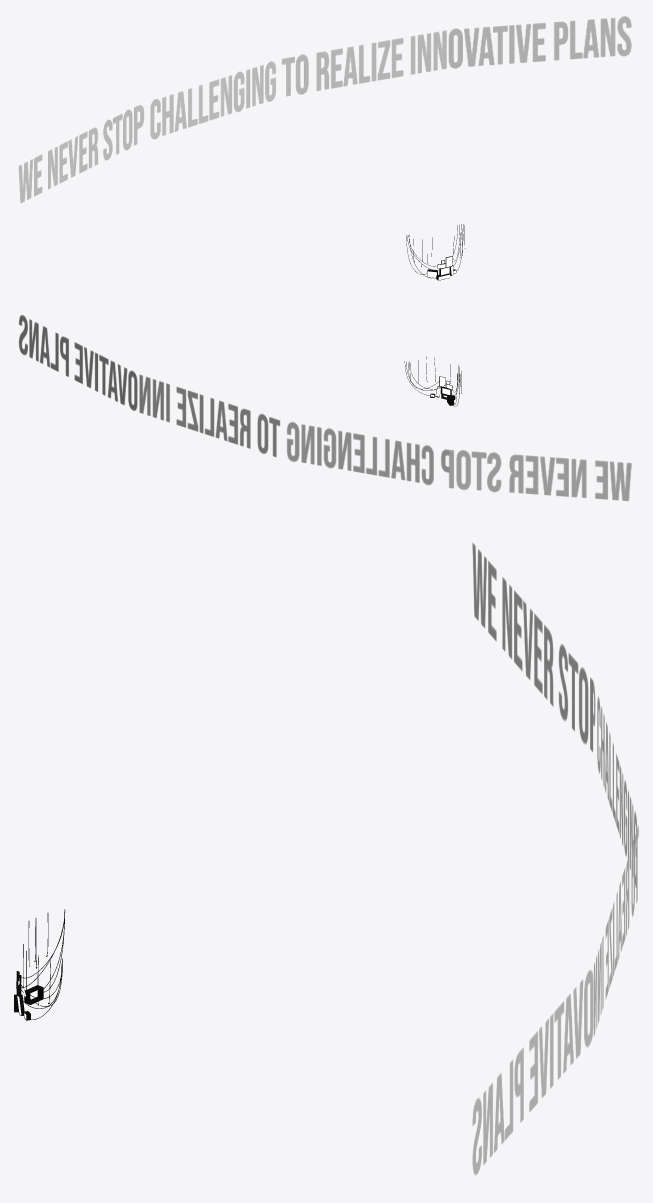
Rendered from section_3.glb.
3 renders of one model, top to bottom at view 1: azimuth 30°, elevation 25°; view 2: azimuth 150°, elevation 25°; view 3: azimuth 270°, elevation 25°, orthographic. The views are drawn at different scales.
Parts seen in each view (by area): view 1: BackText; view 2: BackText; view 3: BackText.
Part boxes in pixels (<box>): BackText: <box>18,16,631,202</box>; BackText: <box>19,315,631,500</box>; BackText: <box>472,543,638,1174</box>.
Bounding box in the file's own units: 152 × 23.29 × 69.95.
6 materials, 1 textured.
